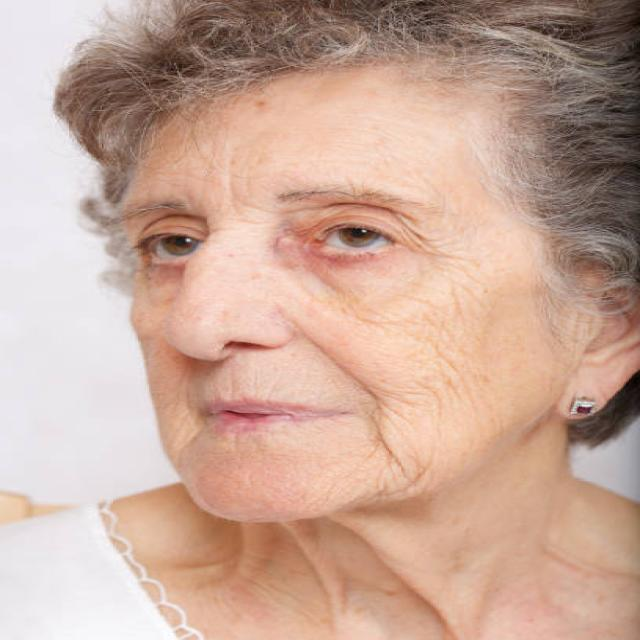Dry-Skin: (382, 105, 536, 176), (447, 262, 552, 364), (353, 411, 450, 495), (356, 307, 436, 380), (180, 436, 274, 490), (528, 291, 575, 382), (246, 139, 361, 176), (144, 275, 256, 312), (455, 293, 463, 392)
